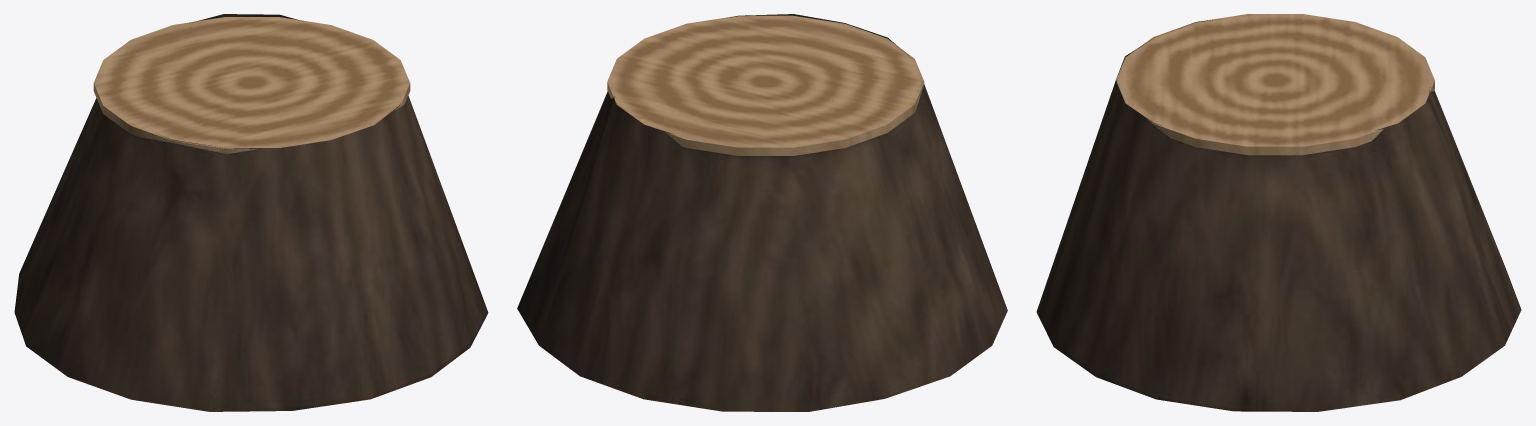
File: stump.glb
3 renders of one model, left to right at view 1: azimuth 30°, elevation 25°; view 2: azimuth 150°, elevation 25°; view 3: azimuth 270°, elevation 25°, orthographic.
Parts seen in each view (by area): view 1: stump; view 2: stump; view 3: stump.
Part boxes in pixels (<box>): stump: <box>14,14,488,411</box>; stump: <box>517,14,1007,411</box>; stump: <box>1036,14,1521,411</box>.
Bounding box in the file's own units: 1.03 × 0.5602 × 1.05.
Materials: 1 (1 with a texture image).
